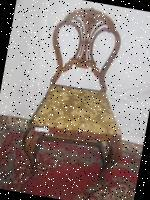Silla: (21, 1, 145, 189)
